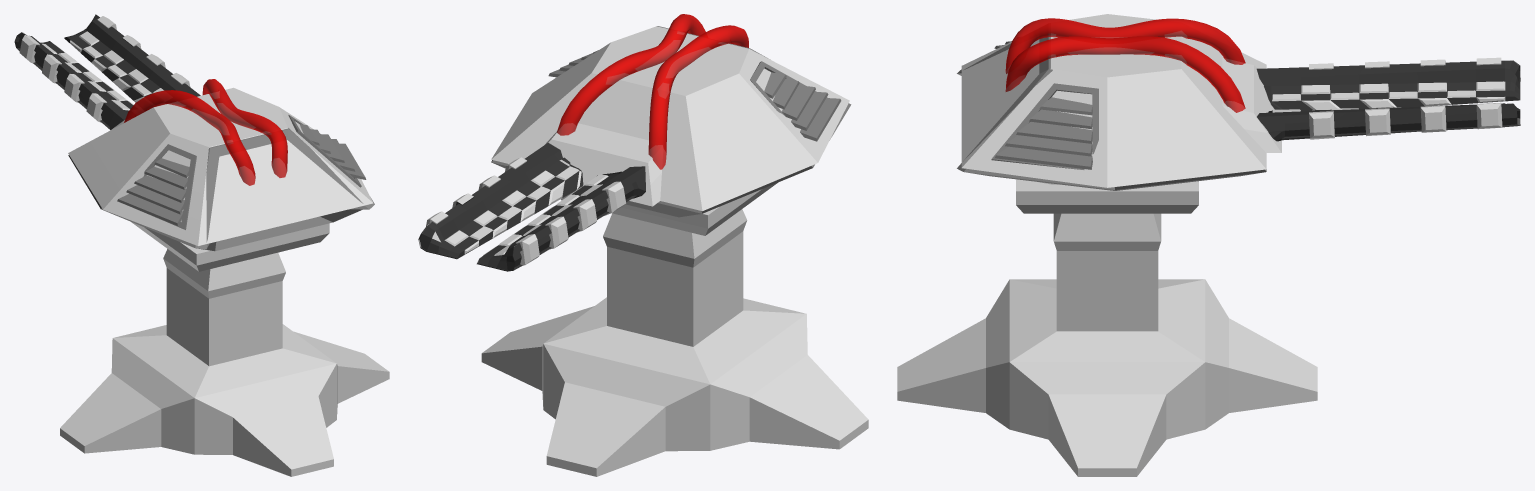
The model's file is TourelleLaser.fbx.
3 renders of one model, left to right at view 1: azimuth 30°, elevation 25°; view 2: azimuth 150°, elevation 25°; view 3: azimuth 270°, elevation 25°, orthographic. The views are drawn at different scales.
Parts seen in each view (by area): view 1: TourelleLaser; view 2: TourelleLaser; view 3: TourelleLaser.
Boxes of the visible parts, x1,y1,x2,y2 form: TourelleLaser: (14, 14, 389, 476); TourelleLaser: (418, 14, 868, 476); TourelleLaser: (897, 14, 1520, 476).
Size of the model in its own units: 0.529 by 0.7847 by 0.4984.
